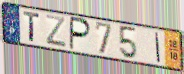5: (117, 25, 138, 60)
7: (95, 20, 114, 56)
I: (154, 31, 161, 64)
P: (69, 16, 93, 52)
T: (22, 10, 41, 44)
Z: (44, 13, 68, 49)
